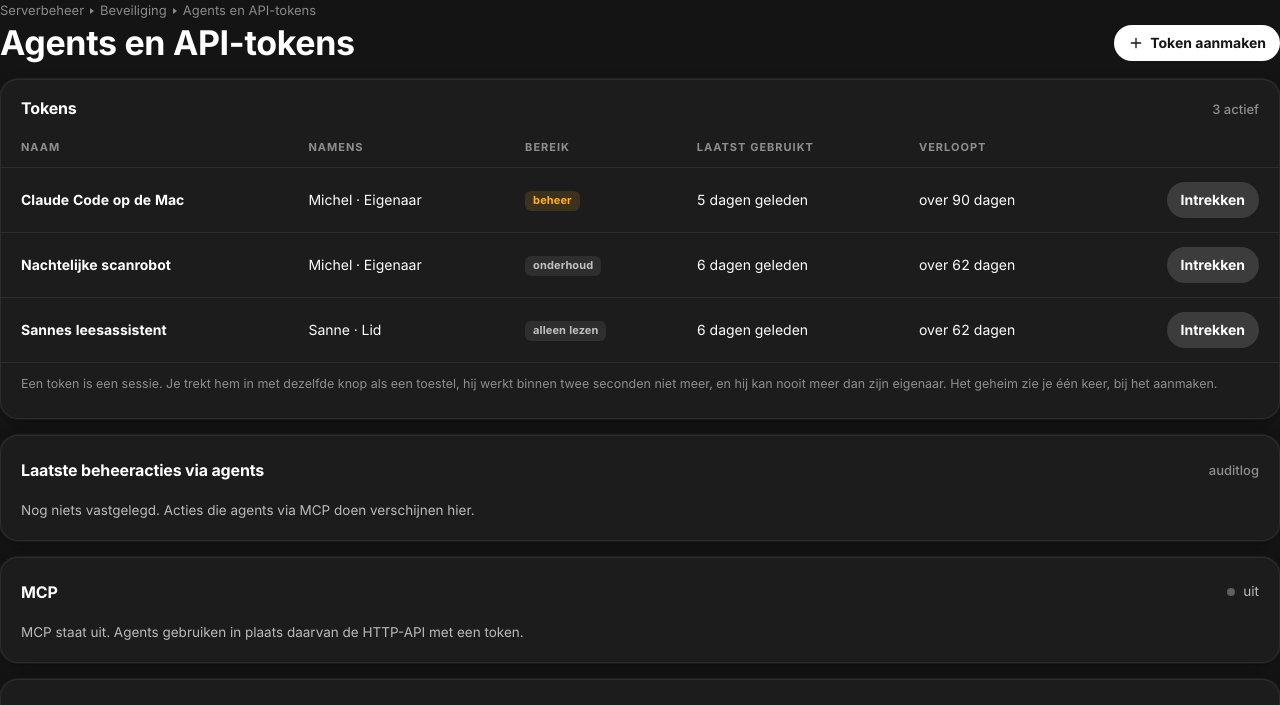
Scenario: scherm 34, intrekken › doet niets als het intrekken geannuleerd wordt (negatieve controle)
Click the button with aria-label "Sannes leesassistent intrekken" at (1213,330), box top-left (1166, 312), bottom-right (1259, 348)
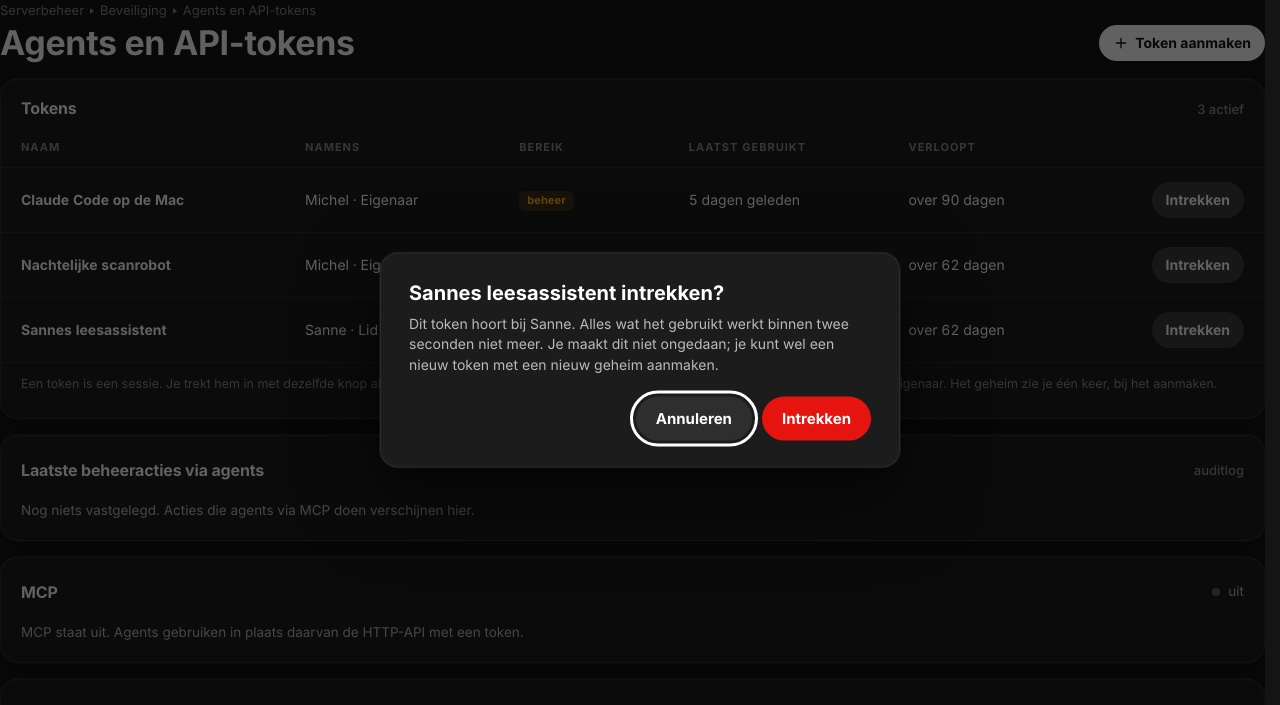
Click the button "Annuleren" at (694,418), box top-left (636, 396), bottom-right (752, 440)
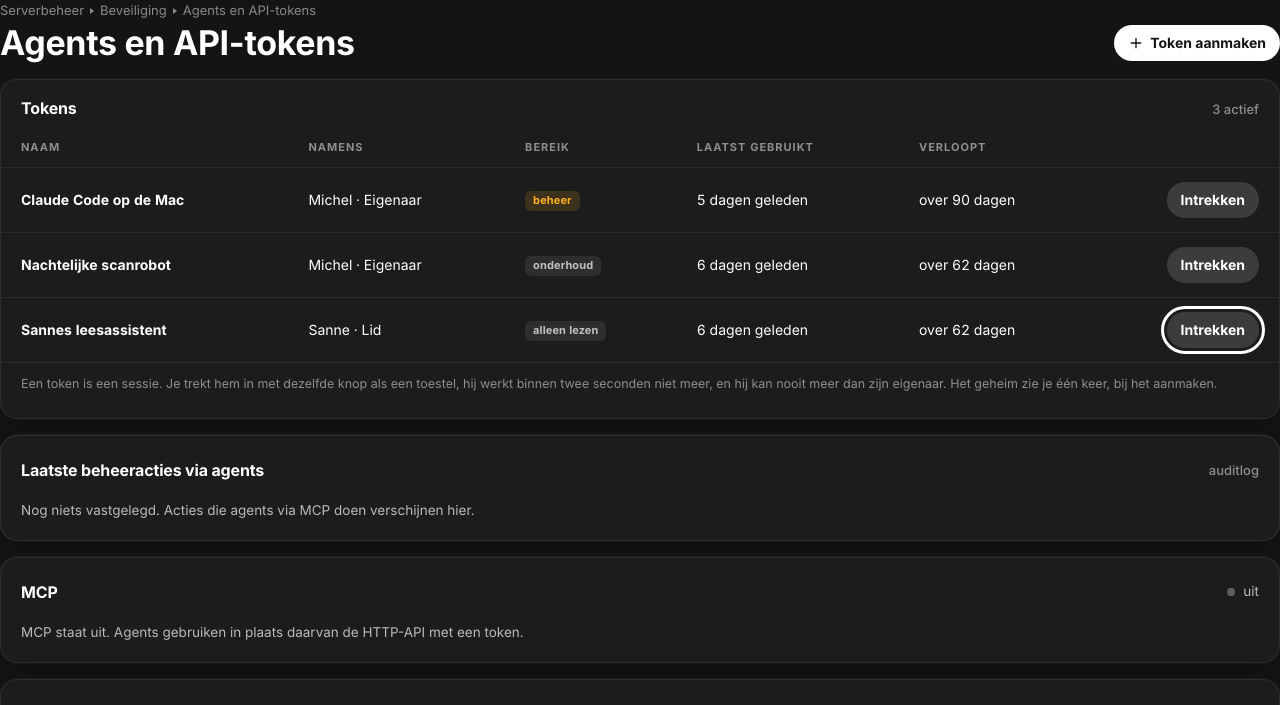
Expected: the text "Sannes leesassistent" is shown, top-left (21, 321), bottom-right (167, 338)
Expected: the dialog is gone
